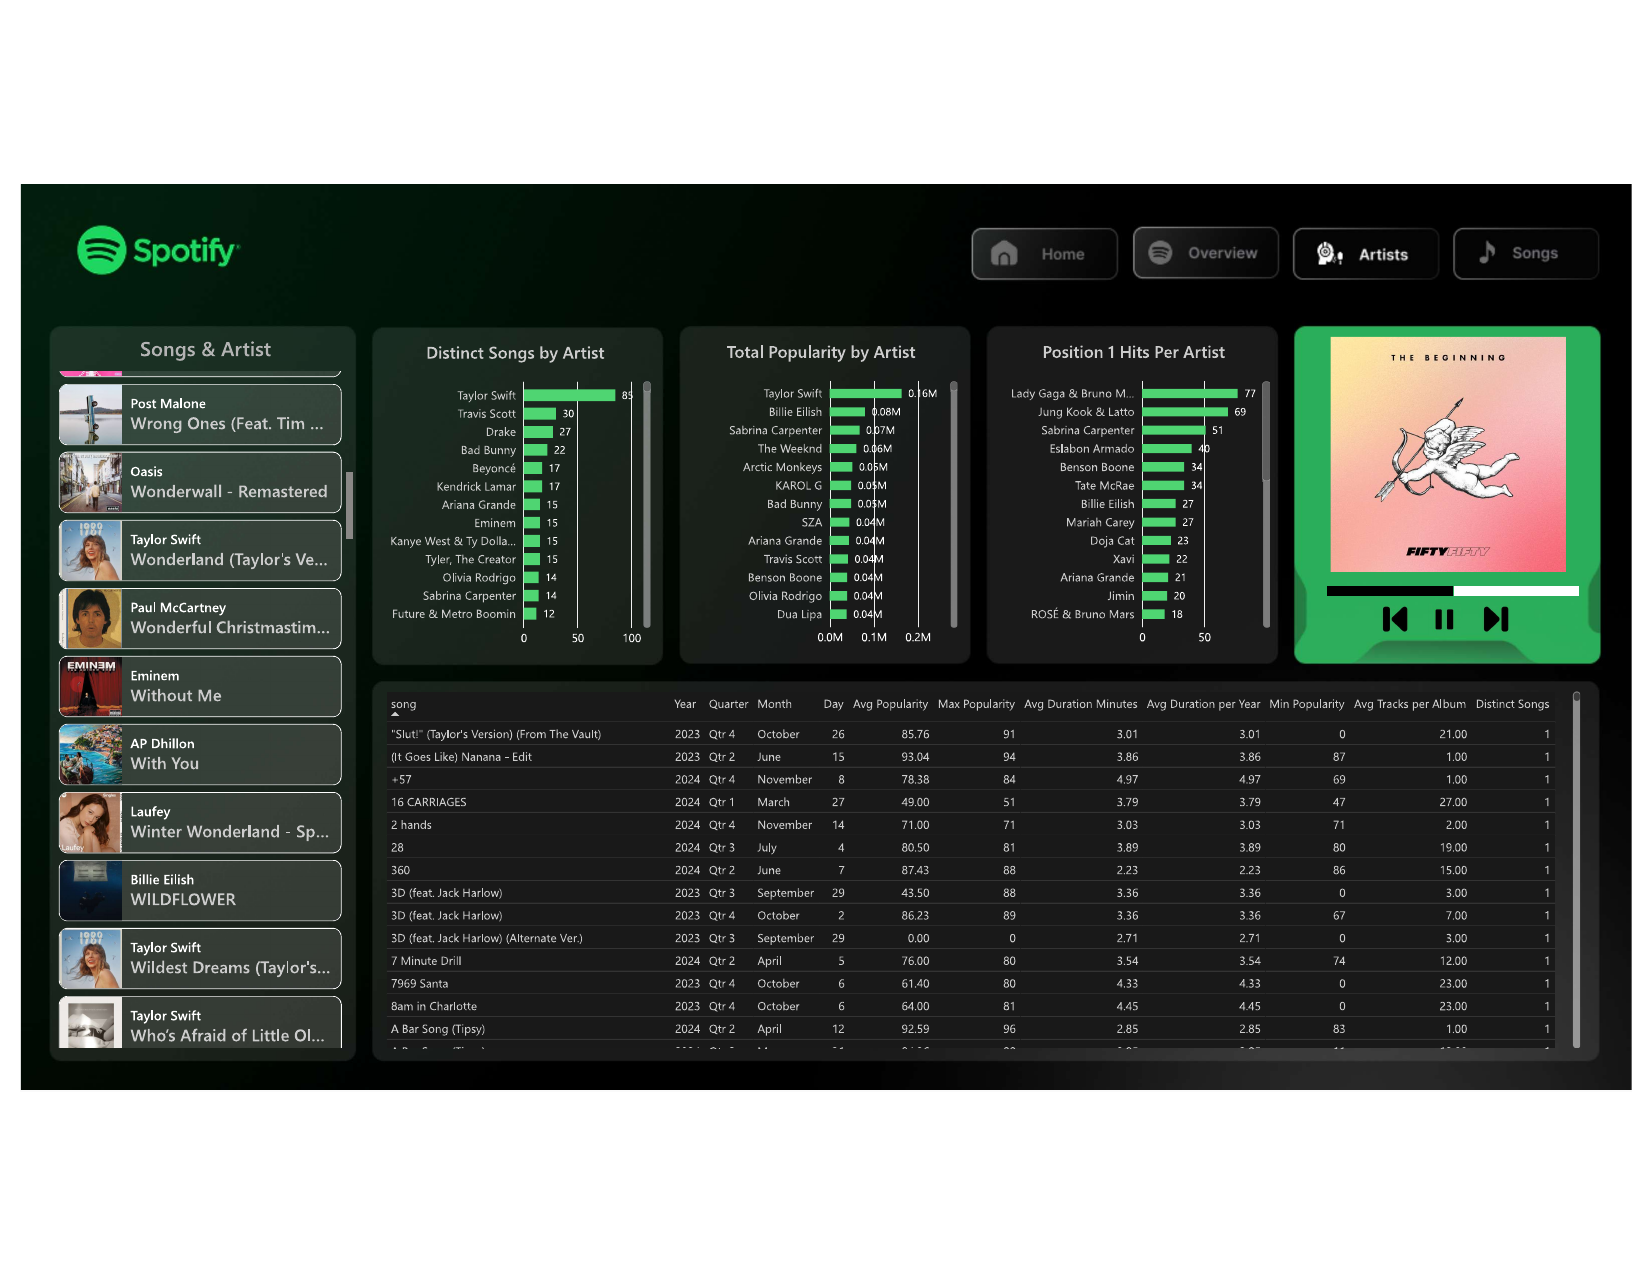

The dashboard page shown, as its layout file describes it:
{"tool":"powerbi","page":{"name":"Artists","canvas":[1920,1080],"ordinal":3},"visuals":[{"type":"actionButton","box":[1706.9,49.5,172.3,63.4],"z":0},{"type":"actionButton","box":[1514.9,49.5,172.3,63.4],"z":1000},{"type":"actionButton","box":[1326.7,49.5,172.3,63.4],"z":2000},{"type":"actionButton","box":[1132.7,49.5,172.3,63.4],"z":3000},{"type":"clusteredBarChart","title":"Distinct Songs by Artist","fields":{"Category":["Top-50-World.artist"],"Y":["_Measures.Distinct Songs"]},"box":[412.5,170.8,354.2,400.2],"z":4000},{"type":"clusteredBarChart","title":"Total Popularity by Artist","fields":{"Category":["Top-50-World.artist"],"Y":["Sum(Top-50-World.popularity)"]},"box":[776.2,170.3,356.4,400],"z":5000},{"type":"clusteredBarChart","title":"Position 1 Hits Per Artist ","fields":{"Category":["Top-50-World.artist"],"Y":["_Measures.Position1 Hits per Artist"]},"box":[1148.5,170.3,356.4,400],"z":6000},{"type":"advancedSlicerVisual","title":"Songs & Artist","fields":{"Values":["Top-50-World.song"]},"box":[45.5,178.2,350.5,851.5],"z":7000},{"type":"cardVisual","fields":{"Data":["Min(Top-50-World.album_cover_url)"]},"box":[1489,181,425.3,280.5],"z":8000},{"type":"hundredPercentStackedBarChart","fields":{"Y":["_Measures.Avg Popularity","Avg(Top-50-World.popularity)"]},"box":[1540.6,437.6,332.7,87.1],"z":9000},{"type":"image","box":[1617.8,501,39.6,31.7],"z":10000},{"type":"image","box":[1738.6,501,39.6,31.7],"z":11000},{"type":"image","box":[1671.3,499,53.5,37.6],"z":12000},{"type":"tableEx","fields":{"Values":["Top-50-World.song","Top-50-World.release_date.Variation.Date Hierarchy.Year","Top-50-World.release_date.Variation.Date Hierarchy.Quarter","Top-50-World.release_date.Variation.Date Hierarchy.Month","Top-50-World.release_date.Variation.Date Hierarchy.Day","_Measures.Avg Popularity","_Measures.Max Popularity","_Measures.Avg Duration Minutes","_Measures.Avg Duration per Year","_Measures.Min Popularity","_Measures.Avg Tracks per Album","_Measures.Distinct Songs"]},"box":[419.8,590.1,1455.5,453.5],"z":13000}]}

Visuals, with their boxes on the page's 1920x1080 design canvas (x1, y1, x2, y2). These are canvas units, not pixel positions in the 1650x1275 screenshot, which may show the page scaled, cropped or inside an application window:
actionButton: bbox(1707, 50, 1879, 113)
actionButton: bbox(1515, 50, 1687, 113)
actionButton: bbox(1327, 50, 1499, 113)
actionButton: bbox(1133, 50, 1305, 113)
"Distinct Songs by Artist" clusteredBarChart: bbox(412, 171, 767, 571)
"Total Popularity by Artist" clusteredBarChart: bbox(776, 170, 1133, 570)
"Position 1 Hits Per Artist " clusteredBarChart: bbox(1148, 170, 1505, 570)
"Songs & Artist" advancedSlicerVisual: bbox(46, 178, 396, 1030)
cardVisual - Min(Top-50-World.album_cover_url): bbox(1489, 181, 1914, 462)
hundredPercentStackedBarChart - _Measures.Avg Popularity x Avg(Top-50-World.popularity): bbox(1541, 438, 1873, 525)
image: bbox(1618, 501, 1657, 533)
image: bbox(1739, 501, 1778, 533)
image: bbox(1671, 499, 1725, 537)
tableEx - Top-50-World.song x Top-50-World.release_date.Variation.Date Hierarchy.Year: bbox(420, 590, 1875, 1044)
